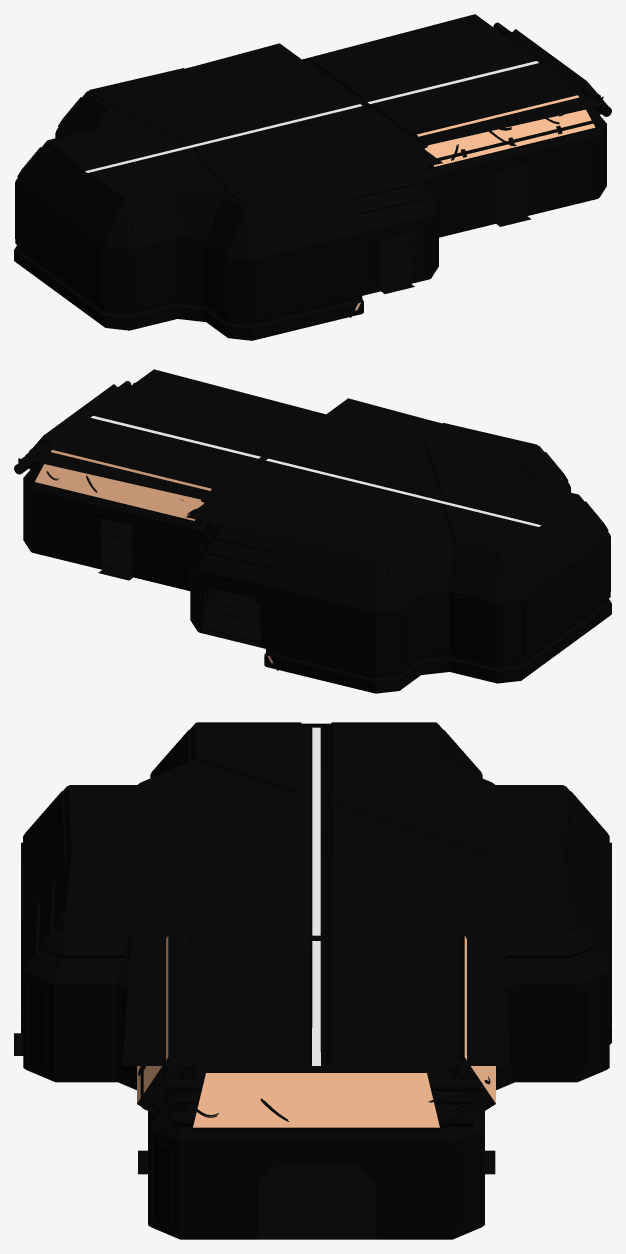
The model's file is CommandDeck.fbx.
3 renders of one model, top to bottom at view 1: azimuth 30°, elevation 25°; view 2: azimuth 150°, elevation 25°; view 3: azimuth 270°, elevation 25°, orthographic. The views are drawn at different scales.
Visible parts, largest first — view 1: Walls, Windows; view 2: Walls, Windows; view 3: Walls, Windows.
Boxes of the visible parts, left/top/right/bottom form: Walls: left=14, top=14, right=611, bottom=340; Windows: left=16, top=96, right=360, bottom=318; Walls: left=14, top=369, right=611, bottom=693; Windows: left=267, top=451, right=609, bottom=671; Walls: left=14, top=722, right=611, bottom=1239; Windows: left=24, top=730, right=608, bottom=912.
Bounding box in the file's own units: 328 × 75.63 × 215.
